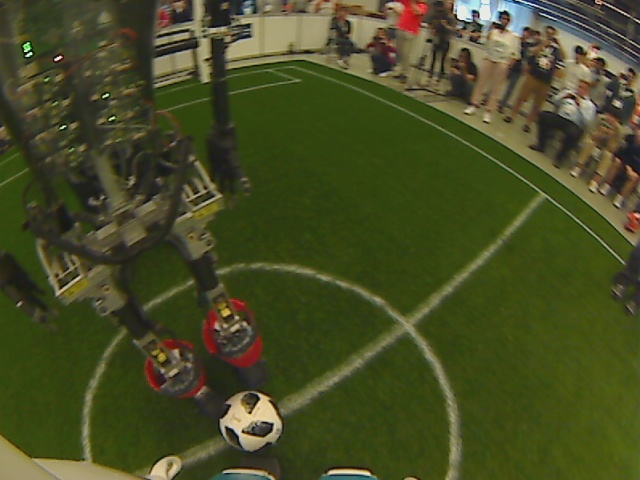ball: (216, 389, 285, 454)
